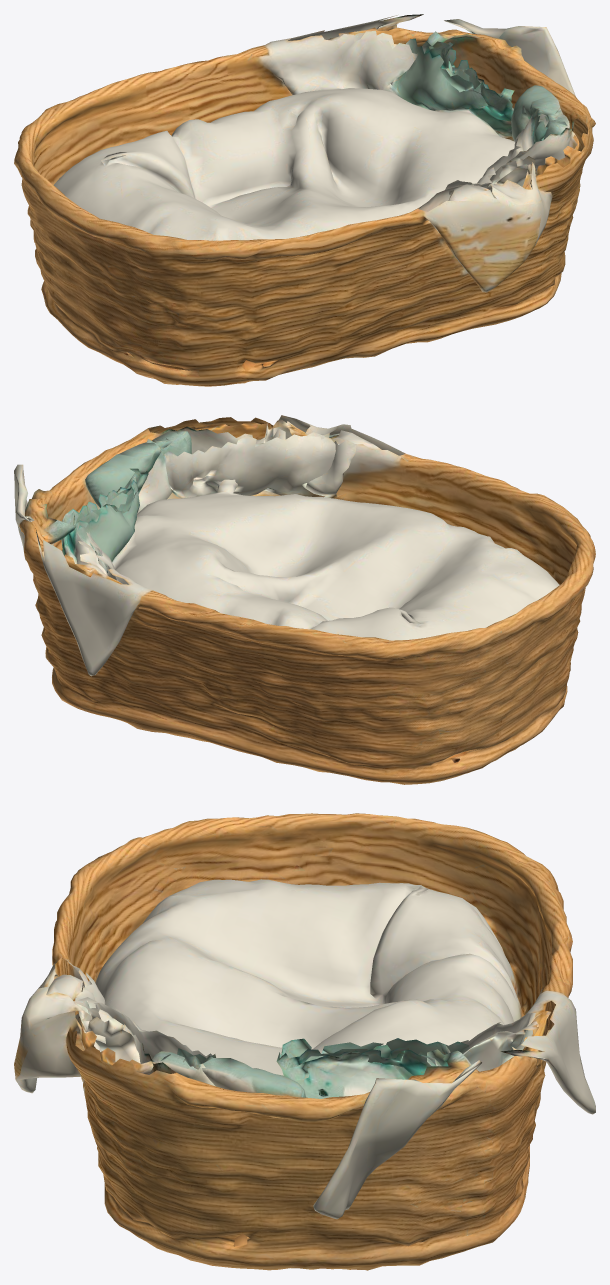
Rendered from meshy-bed.glb.
3 views of the same model, one above another, from view 1: azimuth 30°, elevation 25°; view 2: azimuth 150°, elevation 25°; view 3: azimuth 270°, elevation 25° (orthographic). The views are drawn at different scales.
Size of the model in its own units: 1.9 by 0.6575 by 1.48.
Materials: 1 (1 with a texture image).
